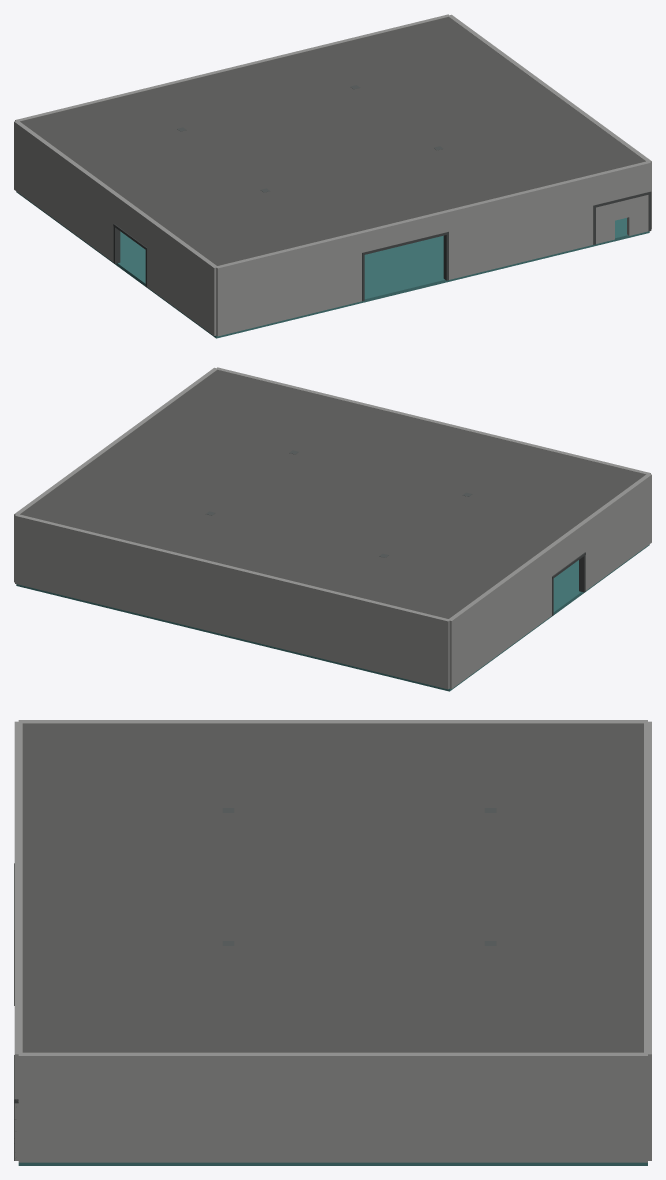
Rendered from blockout_lockers.glb.
The picture shows the model from 3 angles, top to bottom: view 1: azimuth 30°, elevation 25°; view 2: azimuth 150°, elevation 25°; view 3: azimuth 270°, elevation 25°; orthographic projection. The views are drawn at different scales.
Visible parts, largest first — view 1: SM_L1_Zone05_Changing_Ceiling, SM_L1_Zone05_Changing_Wall_S_2, SM_L1_Zone05_Changing_Wall_S_0, SM_L1_Zone05_Changing_Wall_W_2, SM_L1_Zone05_Changing_Floor, SM_L1_Zone05_Changing_Wall_W_0, SM_L1_Zone05_Changing_Wall_S_1, SM_L1_Zone05_Changing_Wall_S_4, SM_L1_Zone05_Changing_Wall_N_0, SM_L1_Zone05_Changing_Wall_W_1, SM_L1_Zone05_Changing_Wall_E_0, SM_L1_Zone05_Changing_Wall_S_3; view 2: SM_L1_Zone05_Changing_Ceiling, SM_L1_Zone05_Changing_Wall_N_0, SM_L1_Zone05_Changing_Wall_W_2, SM_L1_Zone05_Changing_Wall_W_0, SM_L1_Zone05_Changing_Floor, SM_L1_Zone05_Changing_Wall_W_1, SM_L1_Zone05_Changing_Wall_E_0, SM_L1_Zone05_Changing_Wall_S_2, SM_L1_Zone05_Changing_Wall_S_0; view 3: SM_L1_Zone05_Changing_Ceiling, SM_L1_Zone05_Changing_Wall_E_0, SM_L1_Zone05_Changing_Wall_N_0, SM_L1_Zone05_Changing_Floor, SM_L1_Zone05_Changing_Wall_W_2, SM_L1_Zone05_Changing_Wall_S_2, SM_L1_Zone05_Changing_Wall_S_0, SM_L1_Zone05_Changing_Wall_W_0, SM_L1_Zone05_Changing_Wall_S_4.
Part boxes in pixels (<box>): SM_L1_Zone05_Changing_Ceiling: <box>20,17,645,265</box>; SM_L1_Zone05_Changing_Wall_S_2: <box>446,169,614,279</box>; SM_L1_Zone05_Changing_Wall_S_0: <box>215,231,361,336</box>; SM_L1_Zone05_Changing_Wall_W_2: <box>14,121,117,262</box>; SM_L1_Zone05_Changing_Floor: <box>16,191,649,338</box>; SM_L1_Zone05_Changing_Wall_W_0: <box>147,218,216,335</box>; SM_L1_Zone05_Changing_Wall_S_1: <box>360,210,448,252</box>; SM_L1_Zone05_Changing_Wall_S_4: <box>627,161,650,235</box>; SM_L1_Zone05_Changing_Wall_N_0: <box>15,14,449,121</box>; SM_L1_Zone05_Changing_Wall_W_1: <box>114,194,151,247</box>; SM_L1_Zone05_Changing_Wall_E_0: <box>448,14,651,229</box>; SM_L1_Zone05_Changing_Wall_S_3: <box>613,166,629,220</box>; SM_L1_Zone05_Changing_Ceiling: <box>20,370,645,618</box>; SM_L1_Zone05_Changing_Wall_N_0: <box>15,514,450,689</box>; SM_L1_Zone05_Changing_Wall_W_2: <box>449,547,551,688</box>; SM_L1_Zone05_Changing_Wall_W_0: <box>581,474,651,590</box>; SM_L1_Zone05_Changing_Floor: <box>16,544,649,691</box>; SM_L1_Zone05_Changing_Wall_W_1: <box>548,522,585,575</box>; SM_L1_Zone05_Changing_Wall_E_0: <box>14,367,217,582</box>; SM_L1_Zone05_Changing_Wall_S_2: <box>251,376,419,418</box>; SM_L1_Zone05_Changing_Wall_S_0: <box>504,438,650,474</box>; SM_L1_Zone05_Changing_Ceiling: <box>22,723,643,1052</box>; SM_L1_Zone05_Changing_Wall_E_0: <box>18,1052,647,1162</box>; SM_L1_Zone05_Changing_Wall_N_0: <box>644,721,651,1160</box>; SM_L1_Zone05_Changing_Floor: <box>18,1162,647,1165</box>; SM_L1_Zone05_Changing_Wall_W_2: <box>333,720,647,723</box>; SM_L1_Zone05_Changing_Wall_S_2: <box>14,899,22,1026</box>; SM_L1_Zone05_Changing_Wall_S_0: <box>14,721,22,832</box>; SM_L1_Zone05_Changing_Wall_W_0: <box>18,720,228,723</box>; SM_L1_Zone05_Changing_Wall_S_4: <box>14,1037,22,1160</box>.
Bounding box in the file's own units: 30.35 × 4.7 × 24.33.
